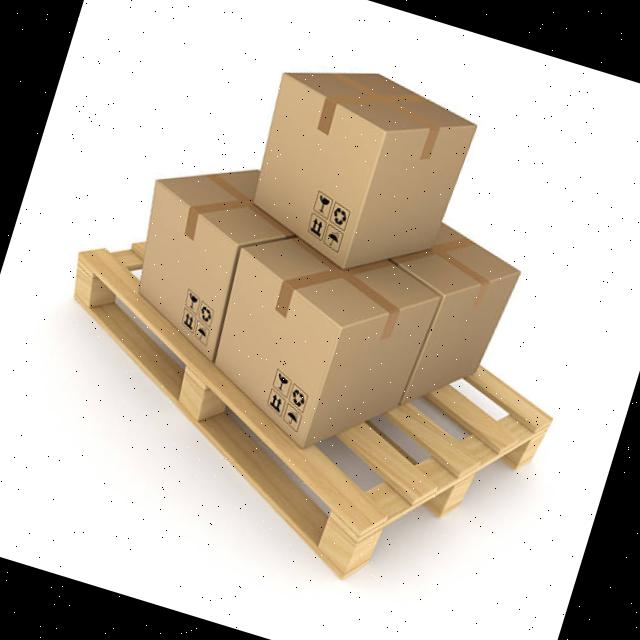Wooden-Pallets: (62, 248, 555, 574)
